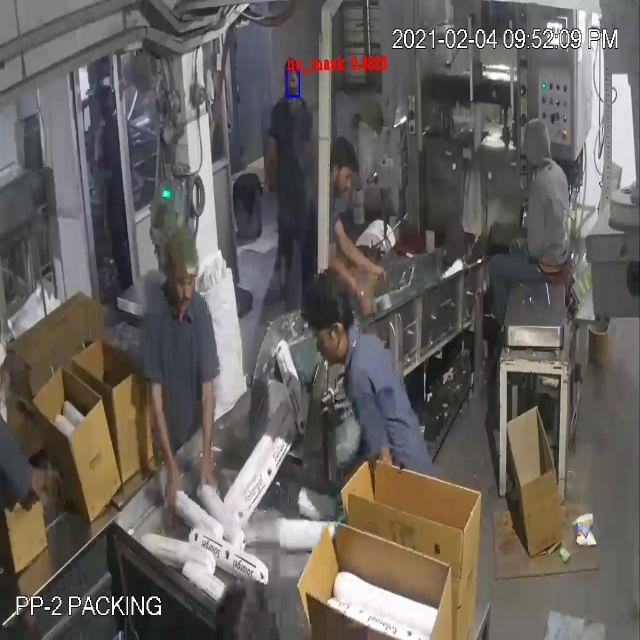Sin_guantes: (140, 365, 193, 538), (317, 233, 380, 327), (187, 359, 223, 505), (329, 208, 389, 285), (9, 452, 60, 526)
